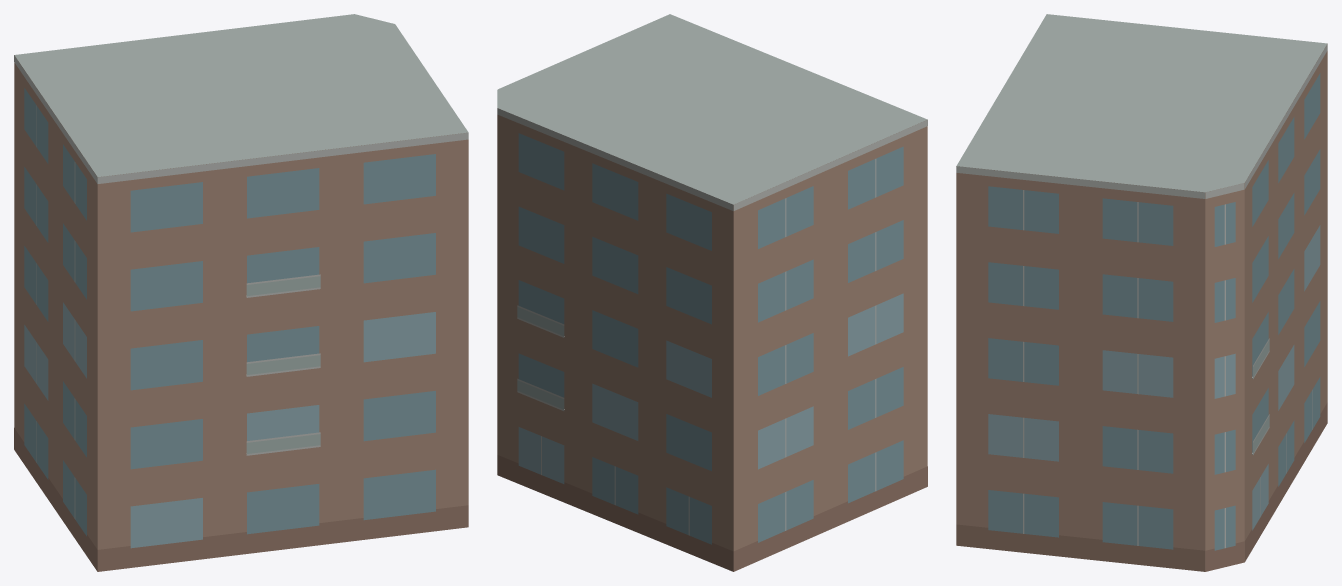
Rendered from survey-upis-32701624.glb.
The picture shows the model from 3 angles, left to right: view 1: azimuth 30°, elevation 25°; view 2: azimuth 150°, elevation 25°; view 3: azimuth 270°, elevation 25°; orthographic projection. The views are drawn at different scales.
Visible parts, largest first — view 1: survey-upis-32701624.tmp; view 2: survey-upis-32701624.tmp; view 3: survey-upis-32701624.tmp.
Part boxes in pixels (bbox=[...]): survey-upis-32701624.tmp: bbox=[14, 14, 468, 571]; survey-upis-32701624.tmp: bbox=[497, 14, 927, 571]; survey-upis-32701624.tmp: bbox=[956, 14, 1327, 571].
Bounding box in the file's own units: 13.87 × 13.75 × 12.2.
